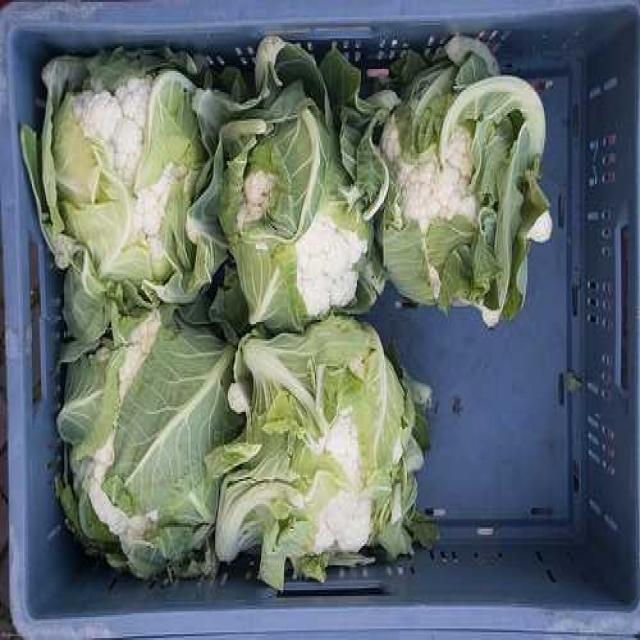cauliflower: (19, 30, 553, 593), (210, 308, 429, 612), (359, 42, 561, 338), (53, 319, 241, 632), (34, 66, 211, 311), (201, 66, 371, 309)
